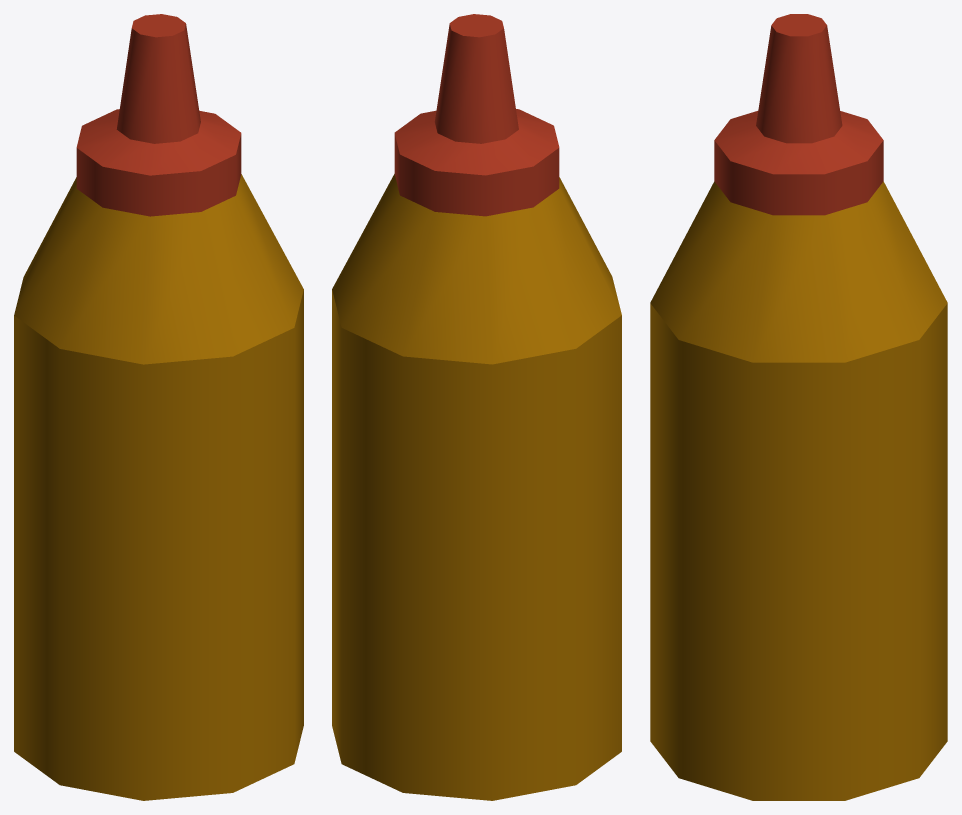
Rendered from bottle_mustard_01.fbx.
3 renders of one model, left to right at view 1: azimuth 30°, elevation 25°; view 2: azimuth 150°, elevation 25°; view 3: azimuth 270°, elevation 25°, orthographic.
Visible parts, largest first — view 1: bottle_mustard_01; view 2: bottle_mustard_01; view 3: bottle_mustard_01.
Boxes of the visible parts, box(x1,y1,x2,y2) form: bottle_mustard_01: box(14, 14, 303, 800); bottle_mustard_01: box(332, 14, 621, 800); bottle_mustard_01: box(650, 14, 947, 800).
Size of the model in its own units: 25.88 by 72.24 by 27.21.
